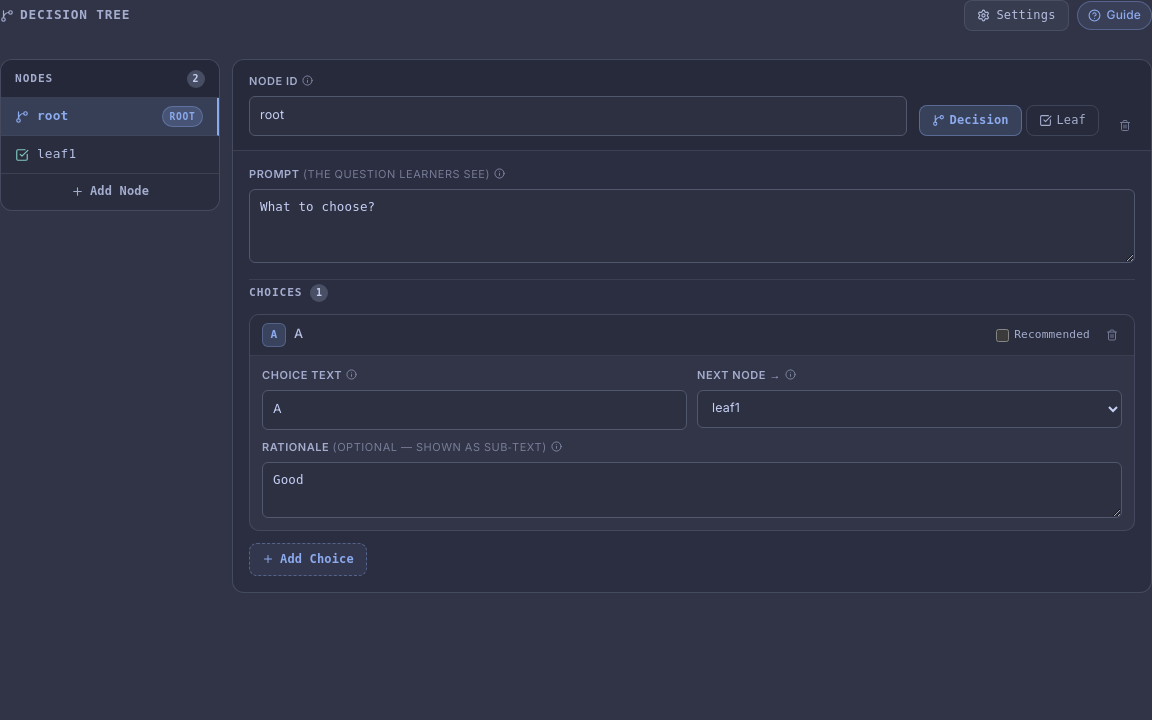
VisualFormEditor › renders decision tree form editor for decision-tree type
Expected: the element with test id "dt-node-list" is shown, [1, 98, 219, 173]
Expected: the button with test id "dt-node-item-root" is shown, [1, 98, 219, 136]
Test guide button
Click the button with test id "dt-editor-help-btn". click: coordinates (1114, 16)
box: [1076, 1, 1151, 30]
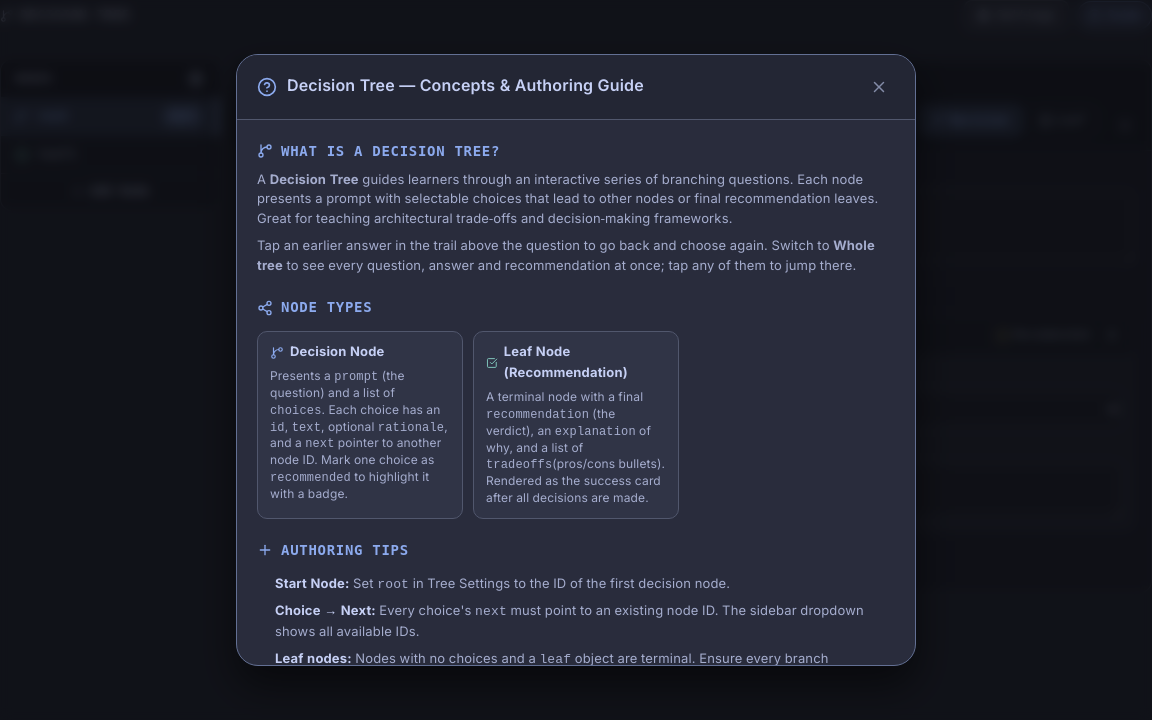
Expected: the dialog with test id "dt-help-modal" is shown, [236, 54, 916, 666]
